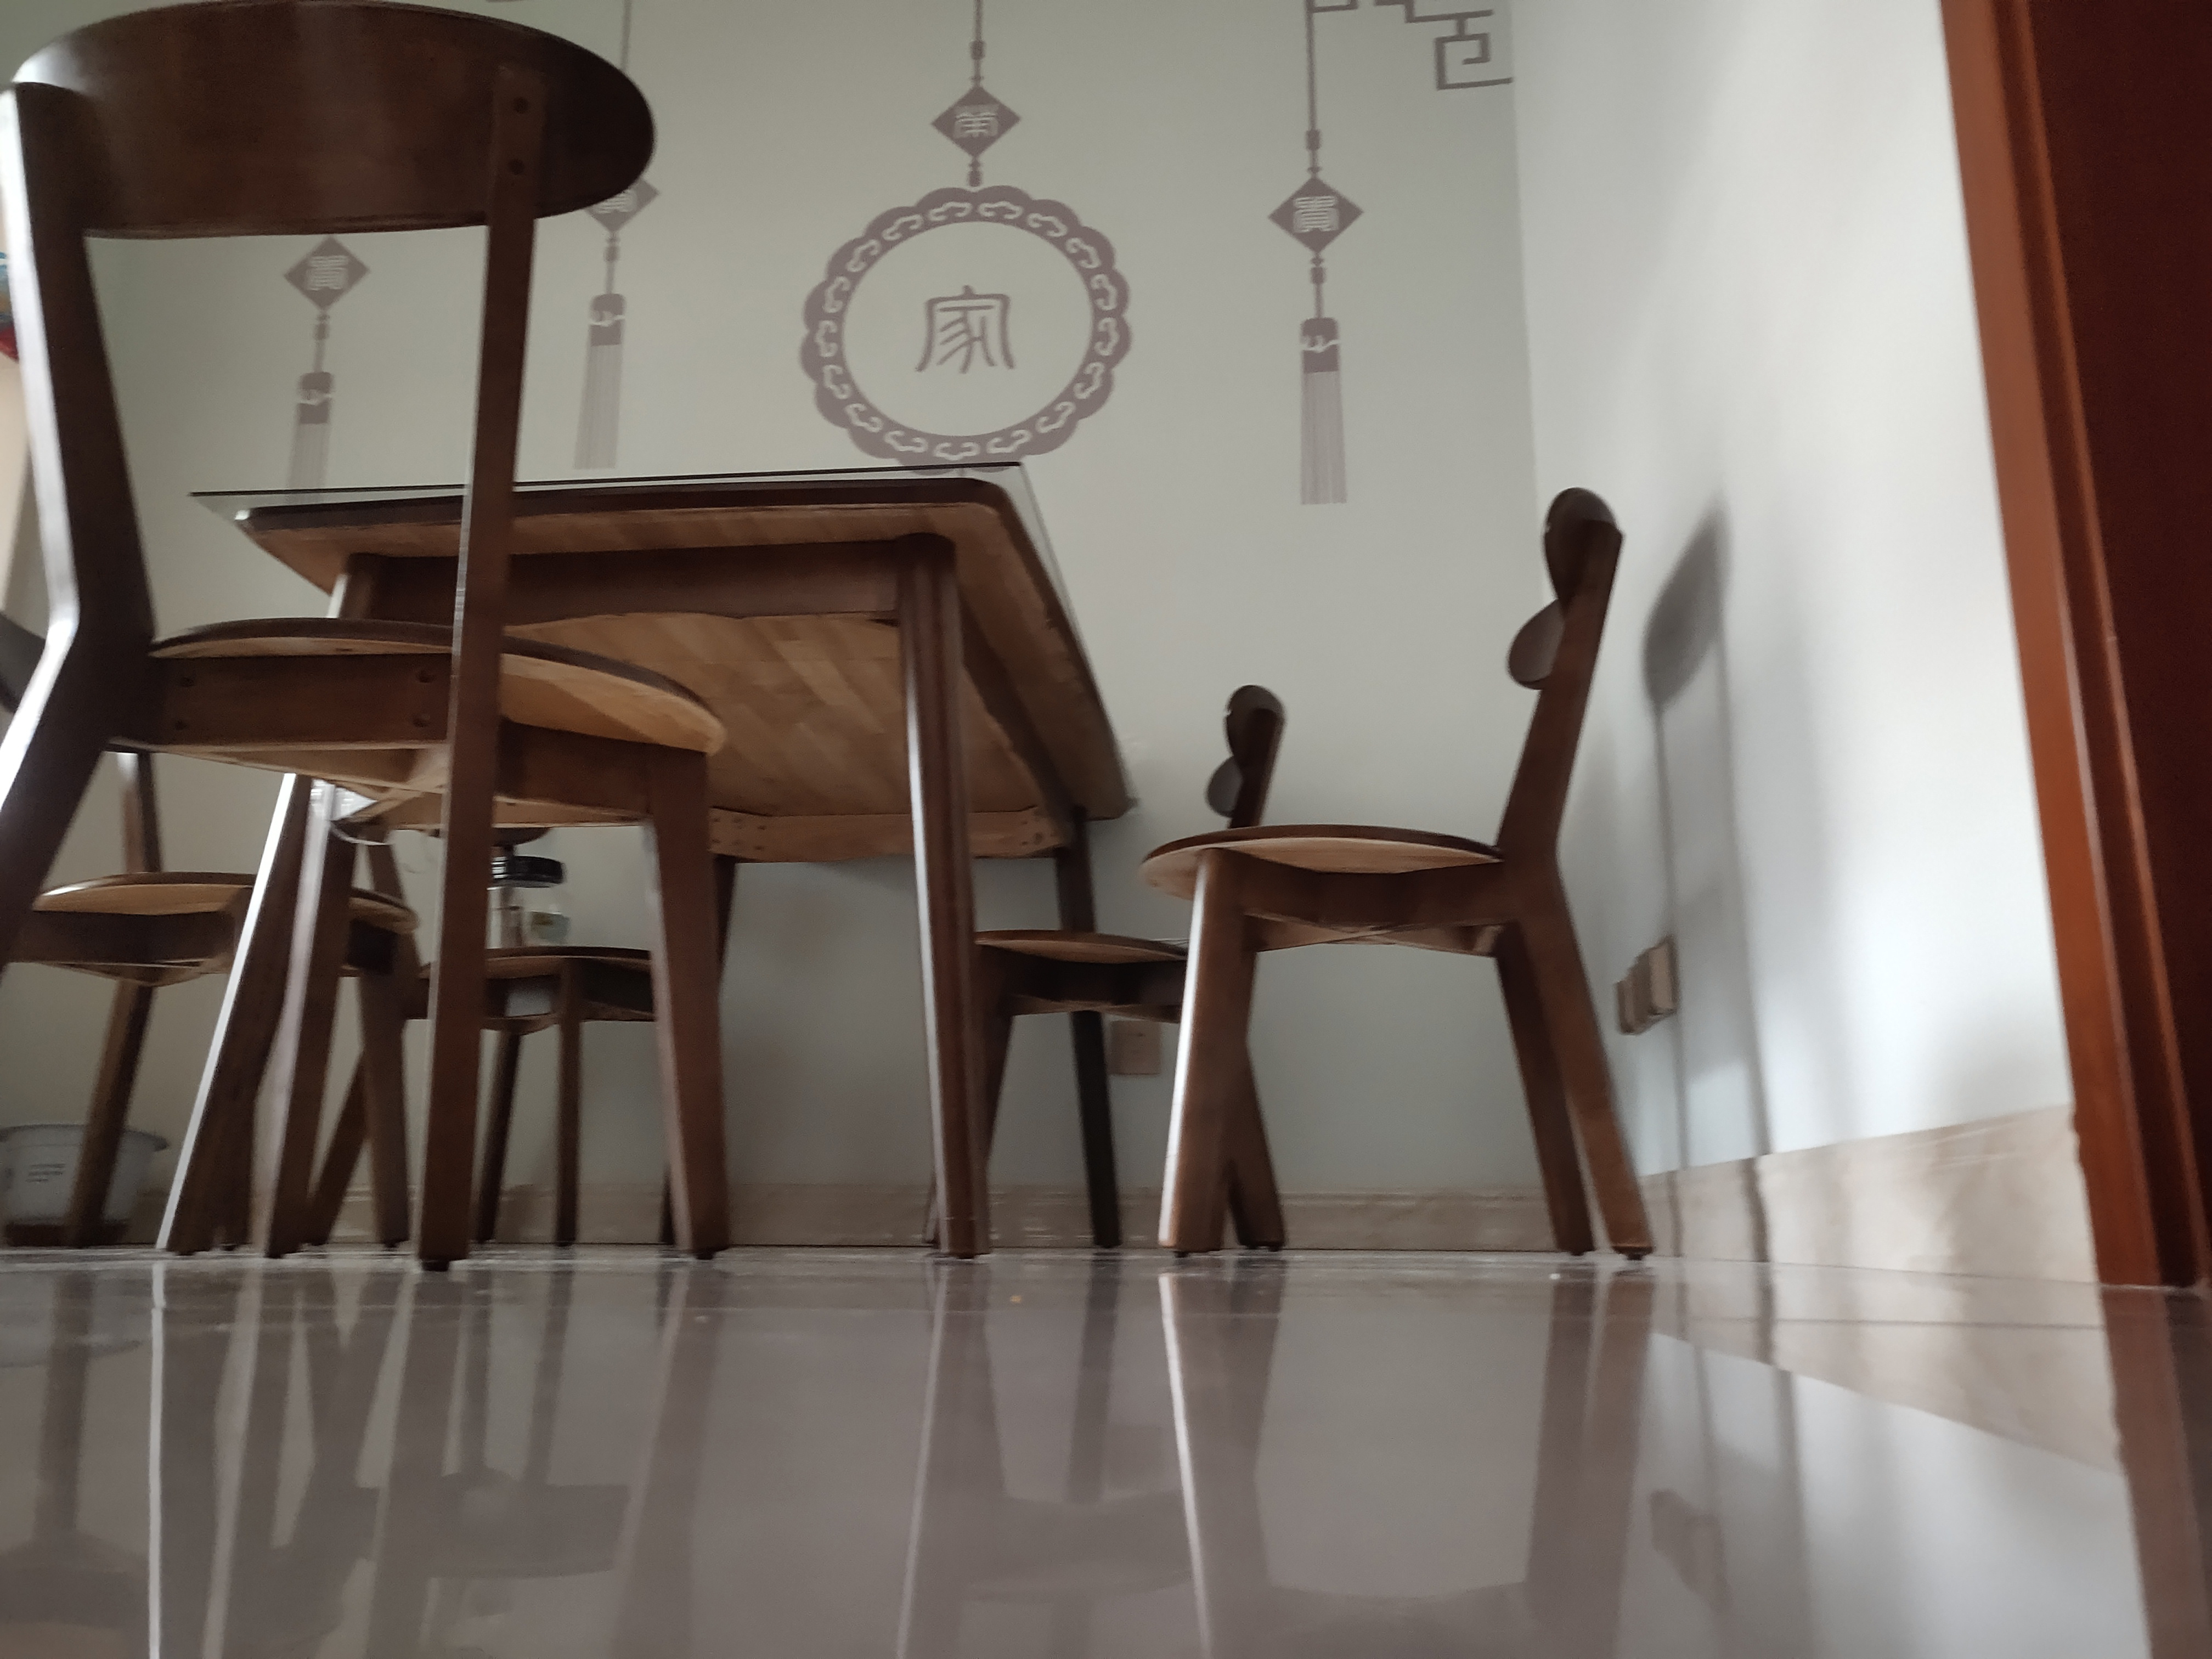stool: (5, 3, 747, 1270), (1136, 484, 1660, 1265), (914, 680, 1292, 1255), (340, 779, 679, 1249)
table: (141, 457, 1139, 1270)
